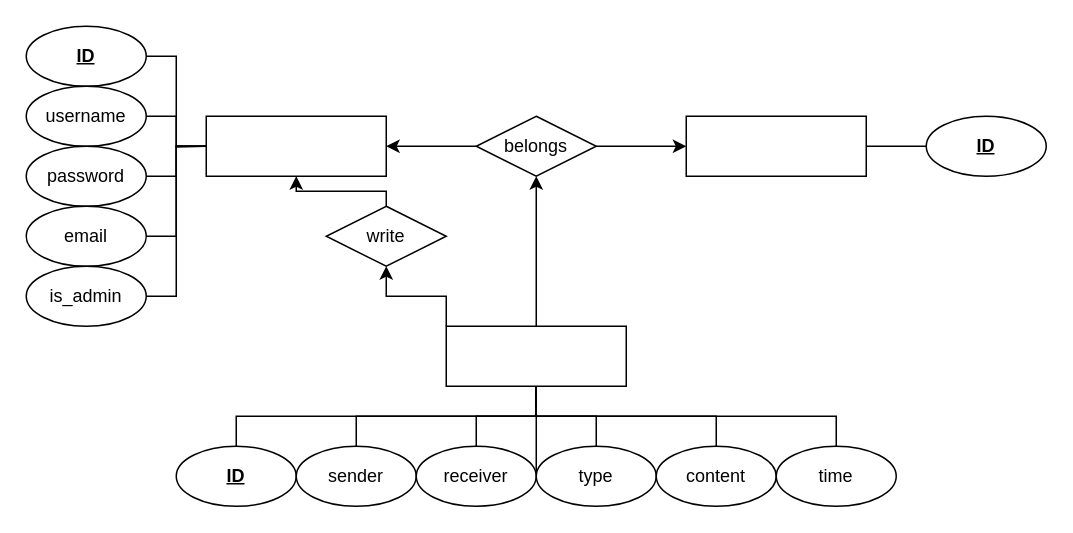
Image size: 1073x533. Some labels were removed from this diagram. Here are the shapes that lost their labels. From the top down, the centre of each, then its label:
At point (295, 145): "User".
At point (775, 145): "Room".
At point (535, 355): "Messeng".
